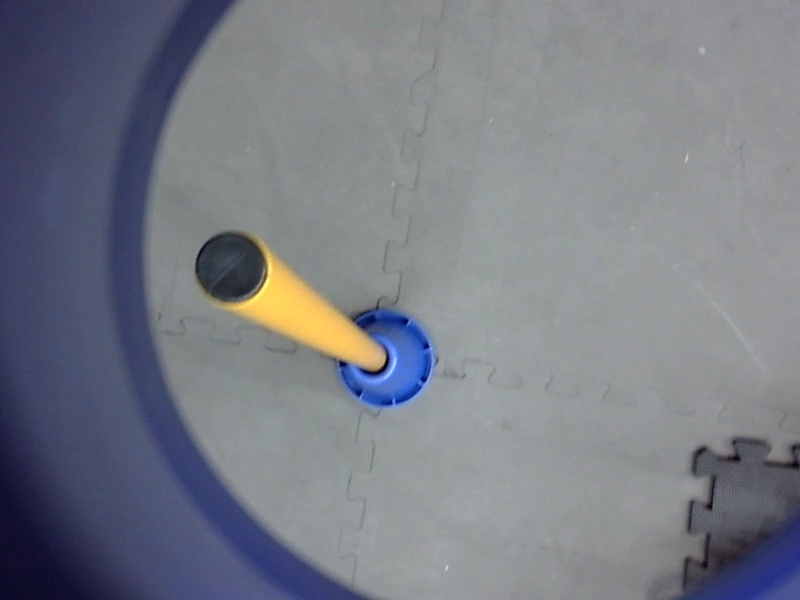tip: (187, 225, 273, 312)
